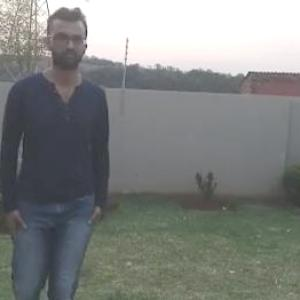follow: (9, 18, 104, 299)
